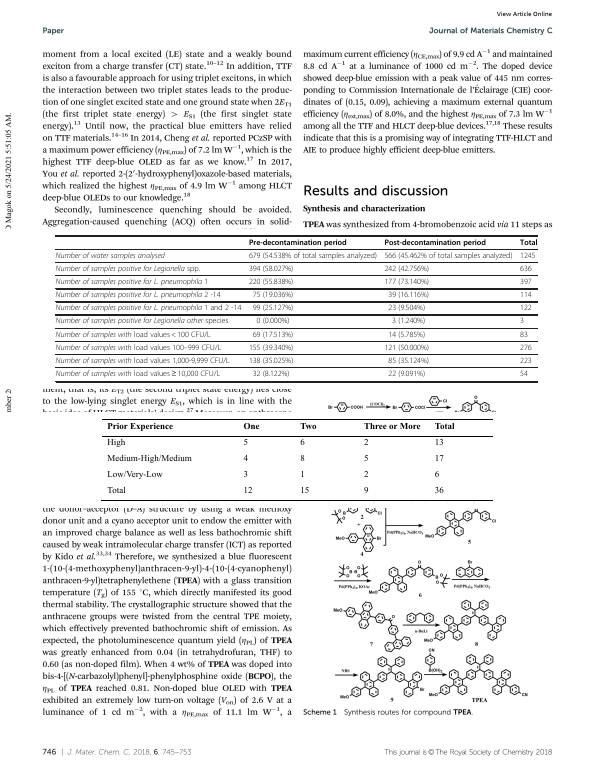borderless: (55, 234, 537, 381), (101, 417, 493, 500)
cell: (55, 356, 231, 366), (55, 304, 242, 313), (55, 343, 222, 353), (55, 290, 221, 300), (55, 369, 221, 379), (55, 317, 229, 326), (55, 277, 209, 287), (55, 264, 201, 274), (55, 330, 211, 339), (248, 251, 378, 261), (383, 251, 513, 261), (55, 251, 166, 261), (383, 238, 487, 247), (248, 238, 347, 247), (106, 454, 192, 464), (106, 421, 173, 431), (362, 421, 421, 431), (106, 470, 163, 480), (383, 264, 430, 274), (383, 277, 430, 287), (383, 343, 430, 353), (248, 264, 294, 274), (248, 277, 294, 287), (248, 343, 294, 353), (248, 356, 294, 366), (387, 290, 430, 300), (387, 356, 430, 366), (252, 290, 294, 300), (387, 369, 426, 379), (252, 369, 290, 379), (252, 304, 294, 313), (252, 330, 294, 339), (387, 304, 426, 313), (387, 330, 426, 339), (255, 317, 290, 326), (391, 317, 426, 326), (433, 421, 455, 431), (106, 438, 126, 448), (106, 486, 126, 496), (242, 421, 260, 431), (299, 421, 317, 431), (519, 238, 538, 247), (519, 251, 536, 261), (519, 264, 533, 274), (519, 277, 533, 287), (519, 290, 533, 300), (519, 343, 533, 353), (519, 356, 533, 366), (519, 304, 533, 313), (433, 438, 444, 448), (433, 454, 444, 464), (242, 486, 253, 496), (299, 486, 310, 496), (433, 486, 444, 496), (519, 369, 529, 379), (519, 330, 529, 339), (362, 438, 369, 448), (362, 454, 369, 464), (362, 470, 369, 480), (433, 470, 440, 480), (362, 486, 369, 496), (242, 438, 248, 448), (299, 438, 305, 448), (242, 454, 248, 464), (299, 454, 305, 464), (242, 470, 248, 480), (299, 470, 305, 480), (519, 317, 525, 326)
